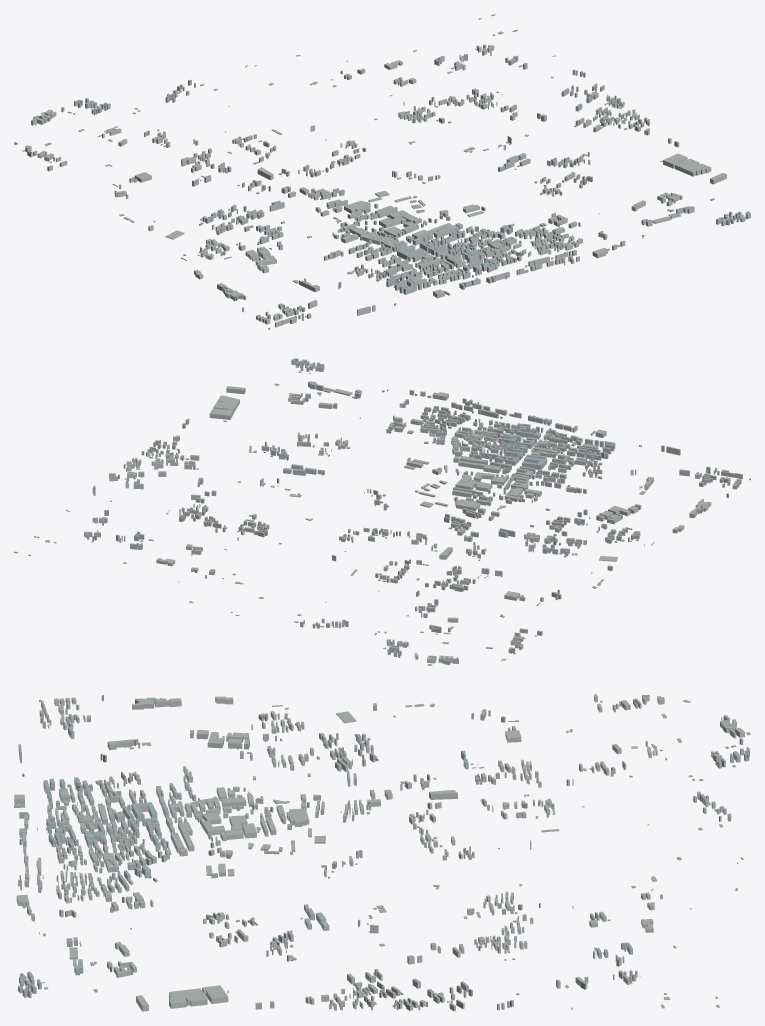
The model's file is far.glb.
3 renders of one model, top to bottom at view 1: azimuth 30°, elevation 25°; view 2: azimuth 150°, elevation 25°; view 3: azimuth 270°, elevation 25°, orthographic. The views are drawn at different scales.
Bounding box in the file's own units: 2110 × 23.8 × 2105.
